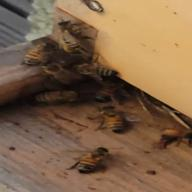Bee: (13, 37, 59, 72), (78, 138, 120, 174)
